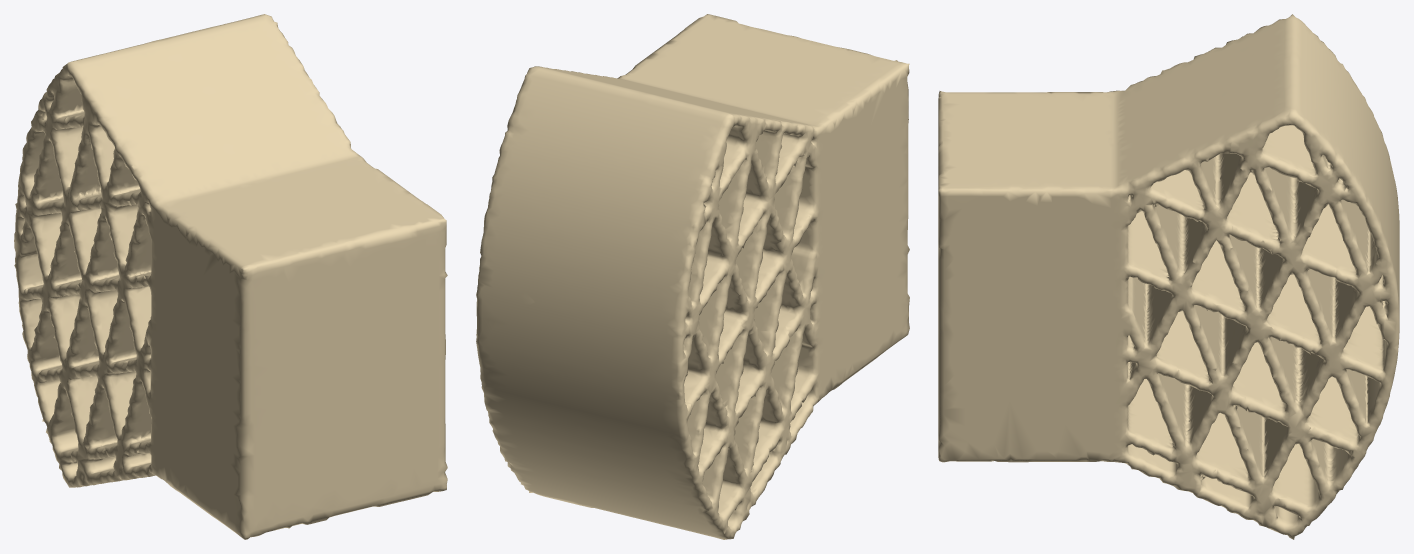
File: ollie-paw-shape-045.glb
The picture shows the model from 3 angles, left to right: view 1: azimuth 30°, elevation 25°; view 2: azimuth 150°, elevation 25°; view 3: azimuth 270°, elevation 25°; orthographic projection.
Parts seen in each view (by area): view 1: world; view 2: world; view 3: world.
Part boxes in pixels (x1,y1,x2,y2): world: (14,14,447,539); world: (476,14,909,539); world: (938,14,1399,539).
Bounding box in the file's own units: 20 × 39.82 × 39.
